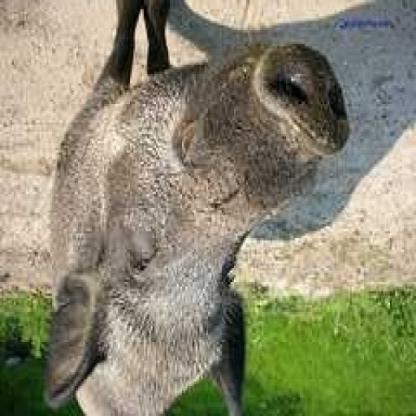boar: (0, 1, 363, 416)
